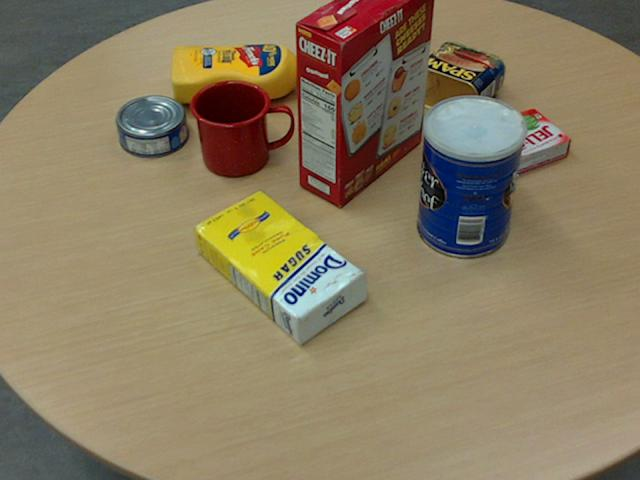cracker_box: (294, 0, 434, 205)
gelatin_box: (474, 106, 569, 174)
large_marker: (341, 21, 358, 110)
master_chef_can: (416, 95, 525, 258)
mug: (188, 79, 292, 176)
mustard_bottle: (170, 43, 321, 101)
potted_meat_can: (405, 41, 504, 121)
sugar_box: (190, 189, 366, 345)
tomato_soup_can: (336, 0, 386, 72)
tuna_fish_can: (114, 94, 187, 156)
